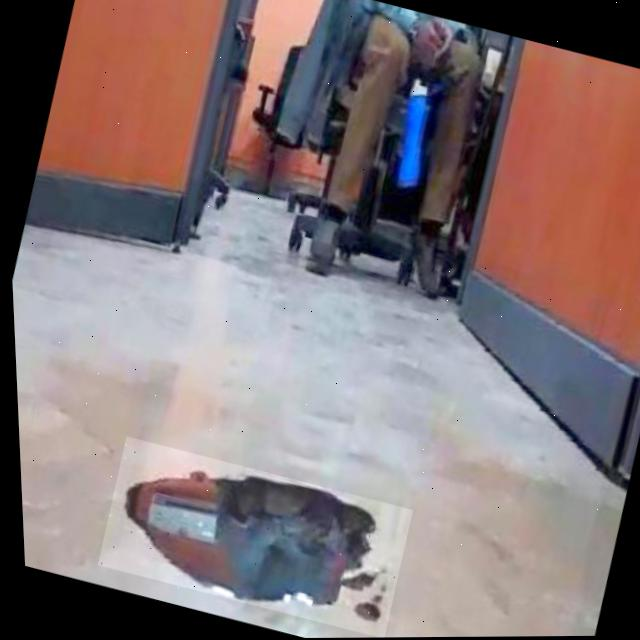spillage: (109, 468, 393, 631)
